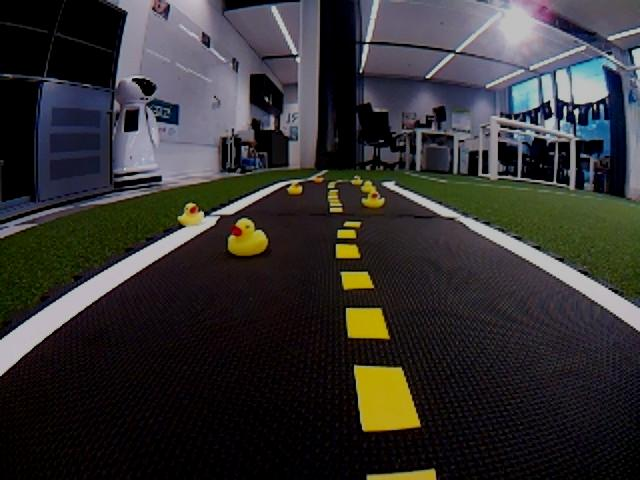Duckies: (229, 216, 267, 260), (176, 201, 204, 226), (362, 190, 384, 210), (287, 180, 303, 193), (312, 175, 325, 183), (352, 174, 362, 184)
